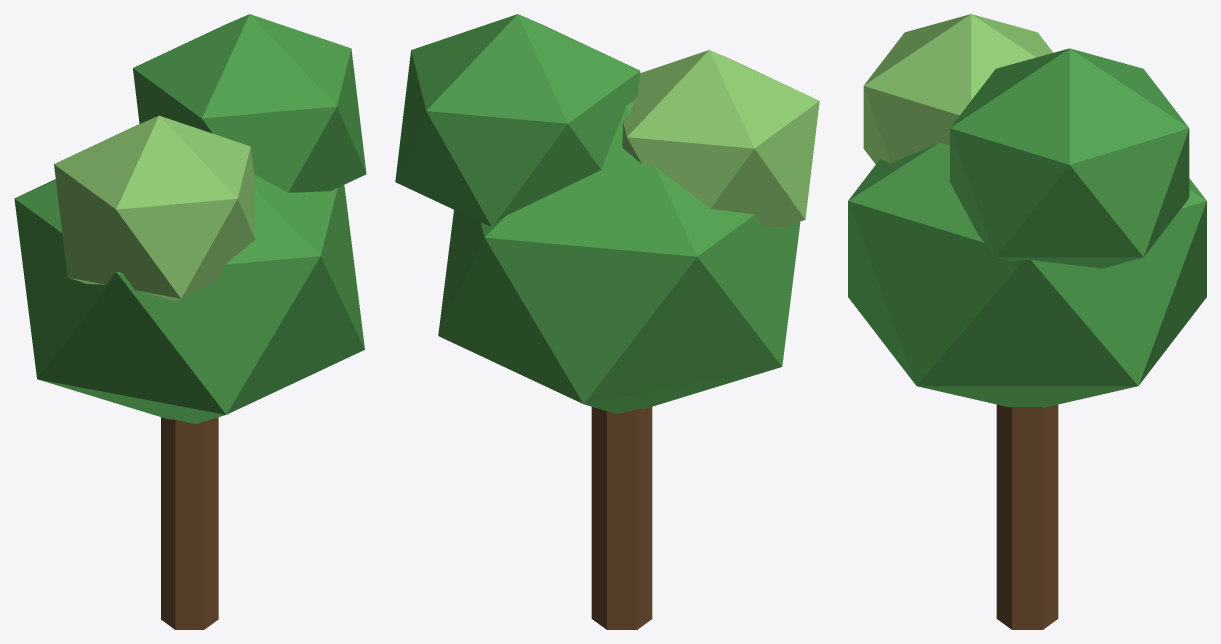
File: tree.fbx
The picture shows the model from 3 angles, left to right: view 1: azimuth 30°, elevation 25°; view 2: azimuth 150°, elevation 25°; view 3: azimuth 270°, elevation 25°; orthographic projection. The views are drawn at different scales.
Parts seen in each view (by area): view 1: tree; view 2: tree; view 3: tree.
Boxes of the visible parts, left/top/right/bottom form: tree: left=14, top=14, right=366, bottom=629; tree: left=395, top=14, right=819, bottom=629; tree: left=848, top=14, right=1206, bottom=629.
Bounding box in the file's own units: 2.94 × 4.8 × 2.55.
